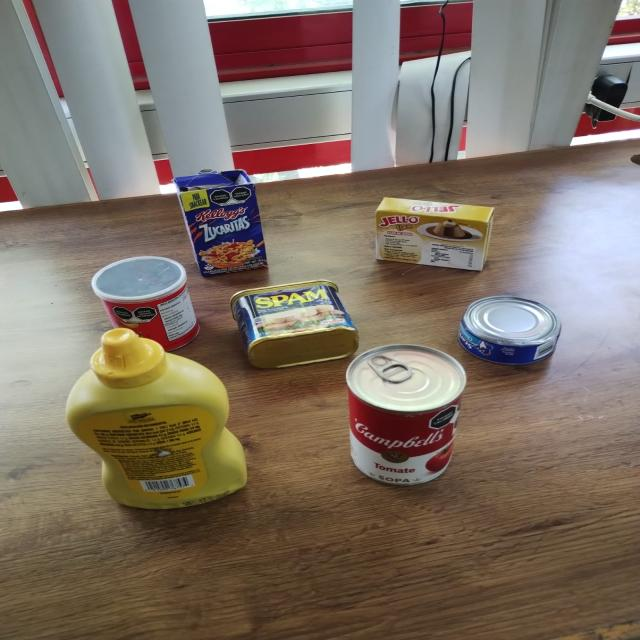can of cream: (344, 344, 464, 484)
can of tuna: (459, 296, 560, 366)
cereal: (170, 170, 267, 274)
chips: (89, 254, 196, 349)
jelly: (372, 196, 493, 273)
mustard: (64, 327, 246, 510)
spam: (228, 282, 358, 367)
